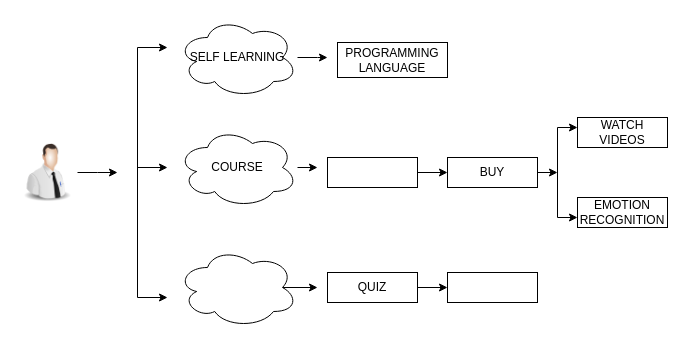
Some shapes in this 685 by 345 pixel diagram are drawn without their labels. Each missing label, with the centre of its shape:
"FLASH CARDS" goes at pixel 492 287.
"UPLOAD" goes at pixel 237 287.
"VIEW COURSES" goes at pixel 372 172.
